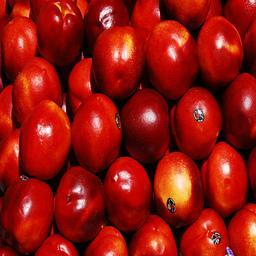apple: (144, 19, 200, 95), (151, 151, 204, 227), (92, 25, 145, 100), (18, 99, 69, 176), (54, 165, 107, 239), (2, 177, 55, 251), (71, 92, 122, 168), (119, 87, 170, 162), (202, 141, 249, 218), (104, 156, 151, 231), (11, 56, 63, 122), (174, 87, 221, 156), (198, 15, 243, 84), (35, 1, 82, 63), (220, 72, 256, 150), (162, 1, 216, 30), (226, 203, 255, 255), (130, 1, 160, 30)
